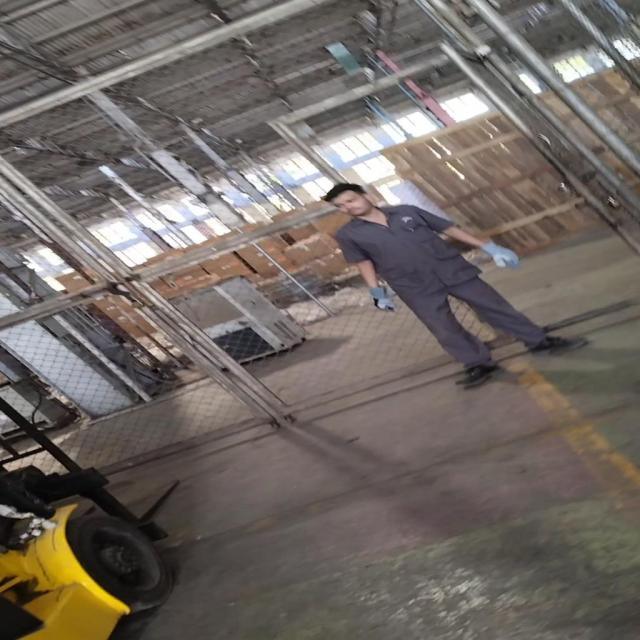Gloves-Detection: (476, 241, 521, 272), (364, 284, 392, 316)
